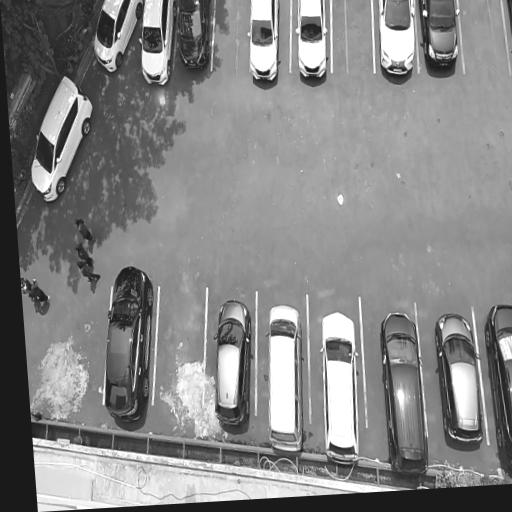Car: (92, 259, 164, 427), (19, 71, 105, 204), (376, 304, 432, 482), (431, 304, 490, 454), (313, 305, 366, 468), (258, 296, 308, 461), (205, 292, 260, 435), (481, 296, 512, 484), (371, 0, 425, 103), (89, 0, 144, 84), (417, 0, 466, 88), (290, 0, 337, 90), (136, 0, 181, 90), (245, 0, 288, 87), (173, 0, 213, 81), (505, 0, 512, 82)
Space Available: (159, 276, 204, 432), (458, 0, 503, 89), (332, 0, 375, 85), (213, 0, 251, 87)
